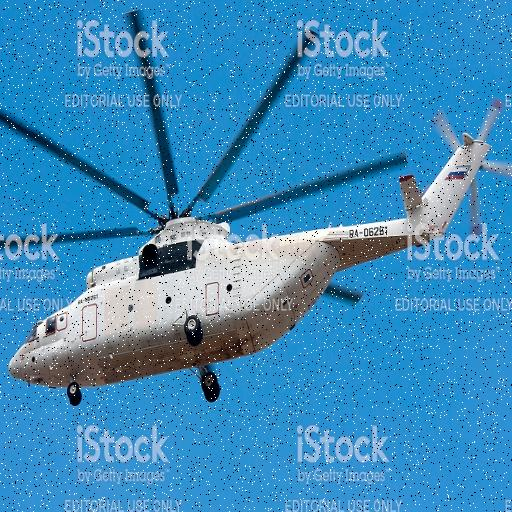helicopter: (1, 8, 512, 400)
